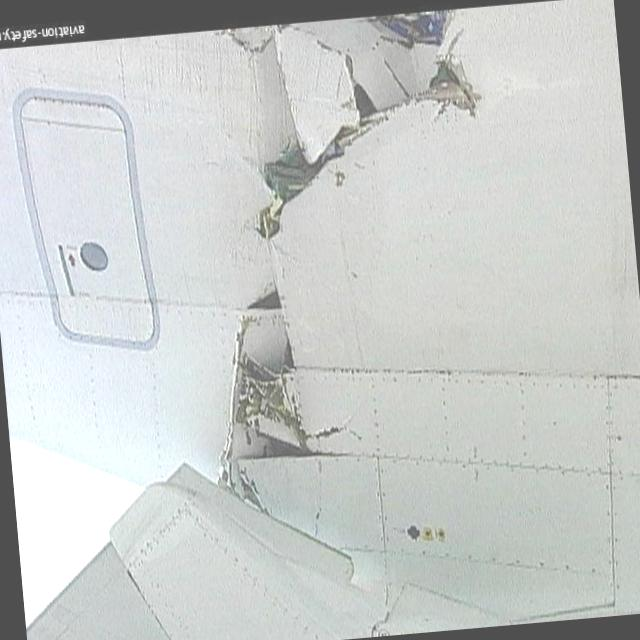crack: (168, 0, 533, 542)
